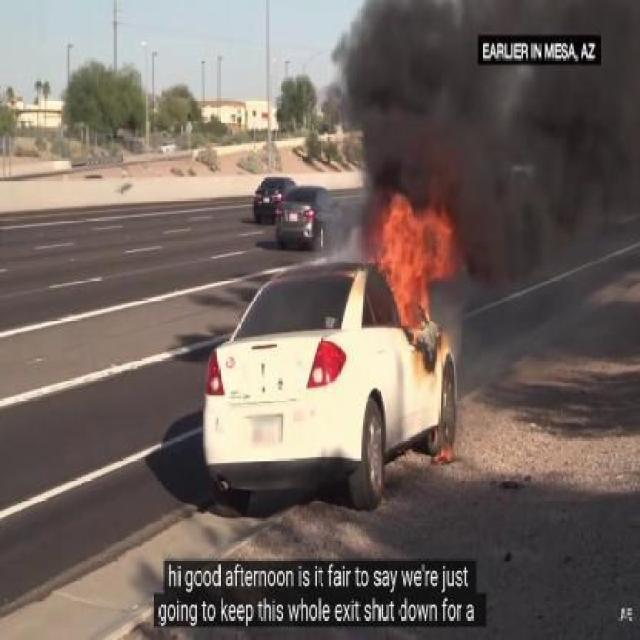Fire: (356, 158, 490, 362)
Smoke: (320, 0, 640, 280)
